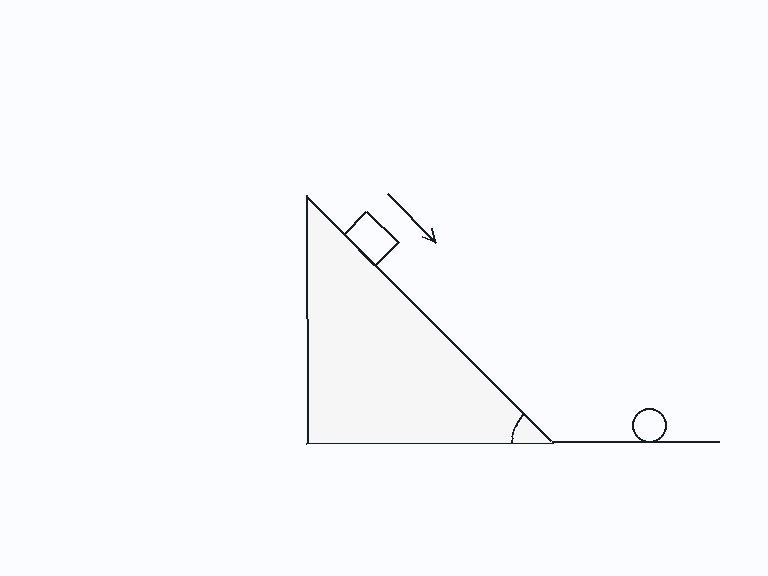ball: (630, 406, 668, 444)
block: (342, 209, 400, 267)
ramp: (305, 195, 554, 444)
